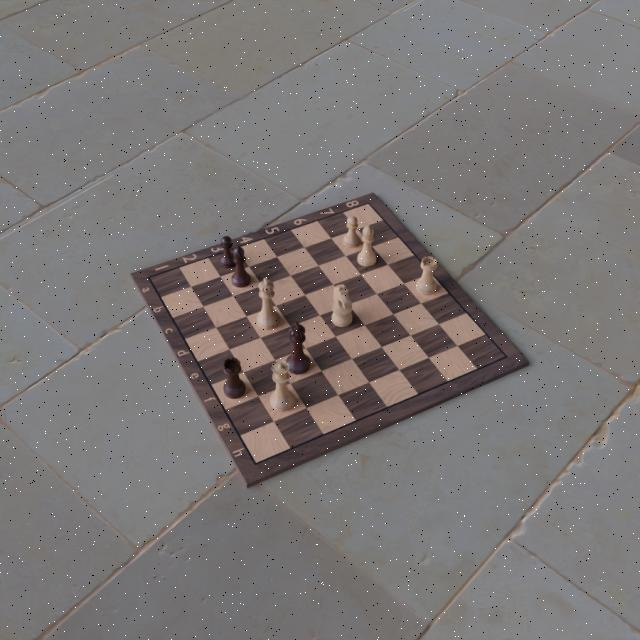black-bishop: (230, 244, 250, 288)
black-king: (285, 321, 311, 375)
black-pawn: (218, 235, 235, 268)
black-rook: (222, 356, 246, 400)
white-bishop: (356, 223, 377, 268)
white-king: (256, 276, 281, 331)
white-knight: (330, 283, 354, 329)
white-pawn: (342, 215, 362, 249)
white-queen: (270, 360, 296, 412)
white-rook: (416, 254, 438, 296)
